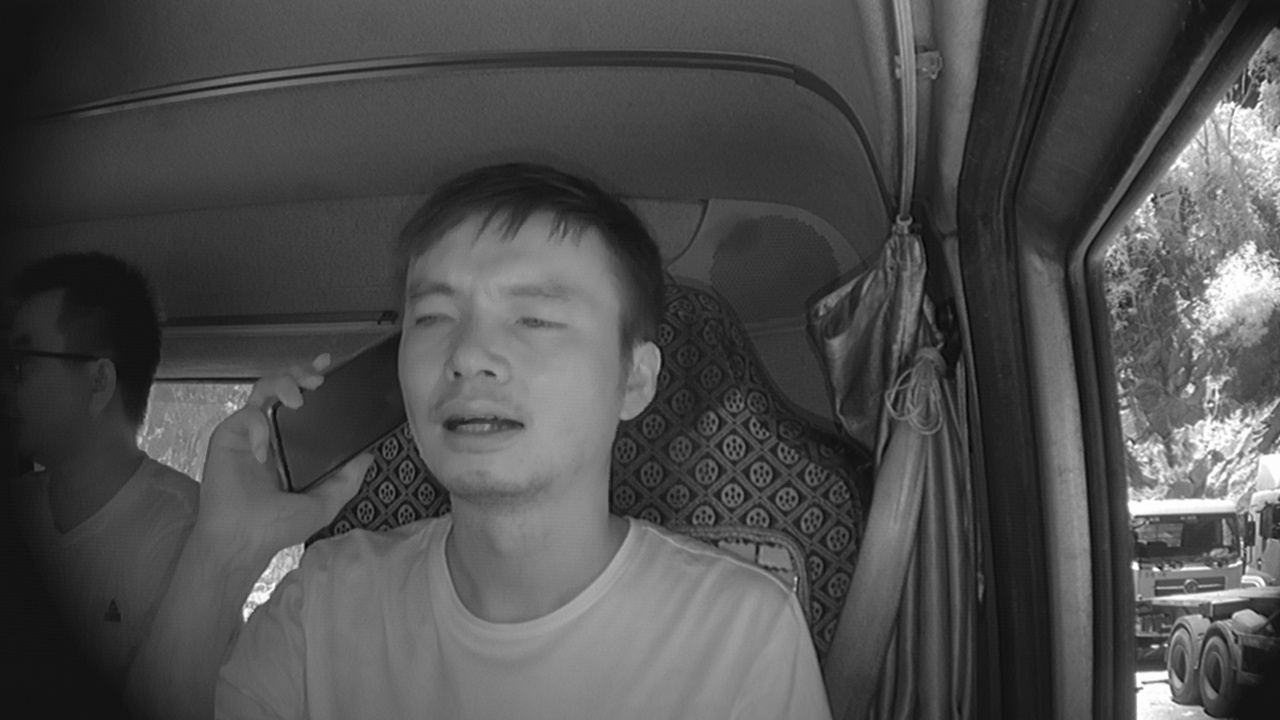hand: (201, 349, 371, 549)
